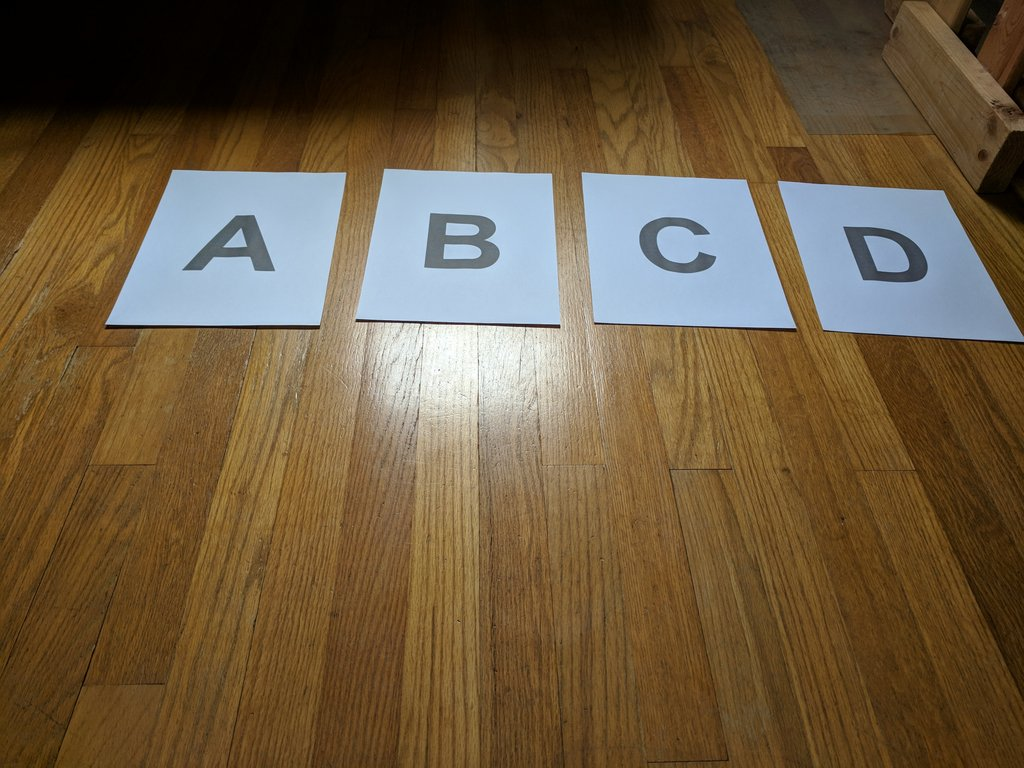home: (844, 223, 930, 285)
